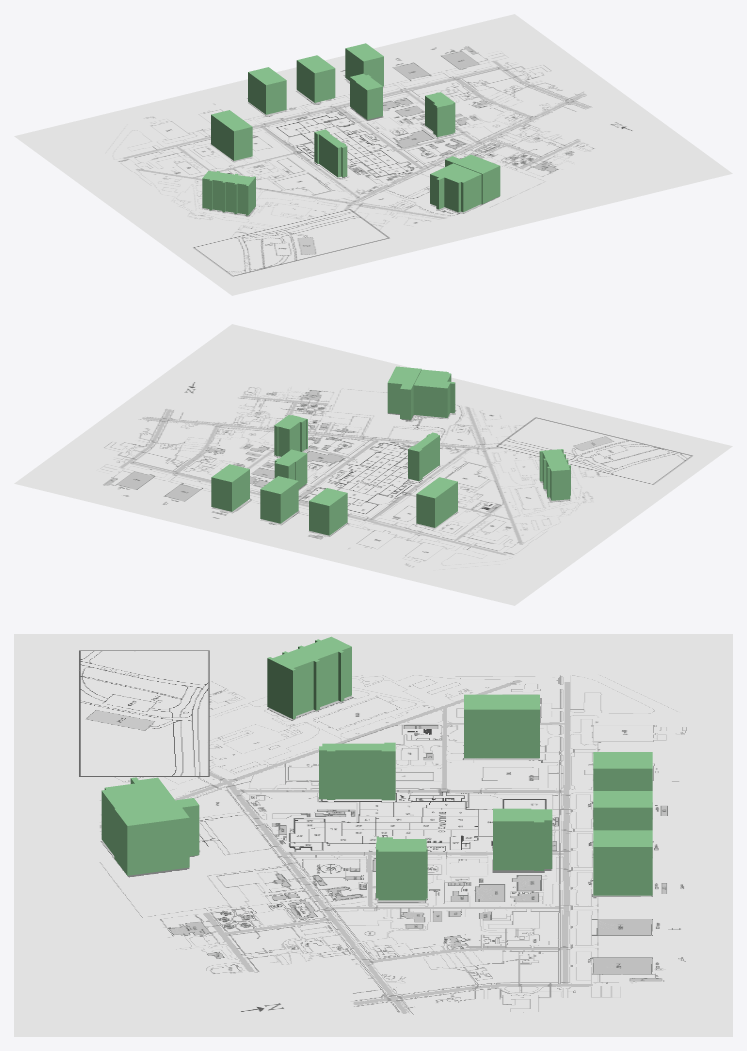
The model's file is campus.glb.
The picture shows the model from 3 angles, top to bottom: view 1: azimuth 30°, elevation 25°; view 2: azimuth 150°, elevation 25°; view 3: azimuth 270°, elevation 25°; orthographic projection. The views are drawn at different scales.
Parts seen in each view (by area): view 1: floor-map, bldg-1700, bldg-1217, bldg-22, bldg-44, bldg-43, bldg-1562, bldg-64, bldg-45, bldg-340, bldg-17002; view 2: floor-map, bldg-1700, bldg-22, bldg-45, bldg-44, bldg-43, bldg-1217, bldg-17002, bldg-340, bldg-64, bldg-1562; view 3: floor-map, bldg-17002, bldg-1217, bldg-22, bldg-64, bldg-45, bldg-1562, bldg-340, bldg-44, bldg-43, bldg-1700.
Boxes of the visible parts, x1=… form: floor-map: x1=14, y1=14, x2=732, y2=295; bldg-1700: x1=430, y1=163, x2=481, y2=212; bldg-1217: x1=202, y1=171, x2=255, y2=215; bldg-22: x1=211, y1=110, x2=252, y2=160; bldg-44: x1=296, y1=55, x2=335, y2=102; bldg-43: x1=248, y1=67, x2=286, y2=114; bldg-1562: x1=350, y1=73, x2=382, y2=119; bldg-64: x1=314, y1=129, x2=347, y2=177; bldg-45: x1=345, y1=43, x2=383, y2=86; bldg-340: x1=425, y1=92, x2=455, y2=137; bldg-17002: x1=445, y1=154, x2=500, y2=203; floor-map: x1=14, y1=324, x2=732, y2=605; bldg-1700: x1=413, y1=369, x2=455, y2=417; bldg-22: x1=416, y1=477, x2=457, y2=527; bldg-45: x1=211, y1=464, x2=249, y2=511; bldg-44: x1=260, y1=476, x2=298, y2=523; bldg-43: x1=309, y1=488, x2=347, y2=535; bldg-1217: x1=539, y1=449, x2=570, y2=500; bldg-17002: x1=387, y1=366, x2=421, y2=419; bldg-340: x1=274, y1=415, x2=307, y2=456; bldg-64: x1=408, y1=432, x2=439, y2=481; bldg-1562: x1=274, y1=449, x2=307, y2=488; floor-map: x1=14, y1=634, x2=732, y2=1036; bldg-17002: x1=114, y1=798, x2=199, y2=875; bldg-1217: x1=267, y1=636, x2=351, y2=719; bldg-22: x1=464, y1=694, x2=539, y2=758; bldg-64: x1=319, y1=742, x2=395, y2=800; bldg-45: x1=593, y1=830, x2=652, y2=895; bldg-1562: x1=493, y1=808, x2=552, y2=870; bldg-340: x1=376, y1=836, x2=427, y2=900; bldg-44: x1=593, y1=791, x2=652, y2=830; bldg-43: x1=593, y1=752, x2=652, y2=790; bldg-1700: x1=101, y1=777, x2=174, y2=855.
Size of the model in its own units: 524 by 31.12 by 395.
Materials: 2 (1 with a texture image).
